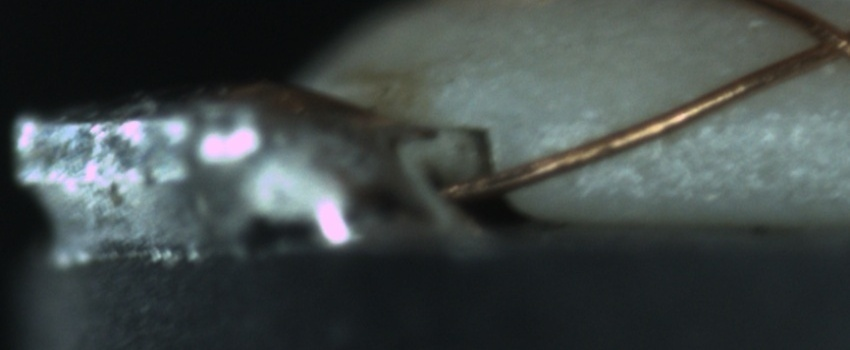CL: (793, 13, 849, 71)
DL: (531, 92, 848, 153)
